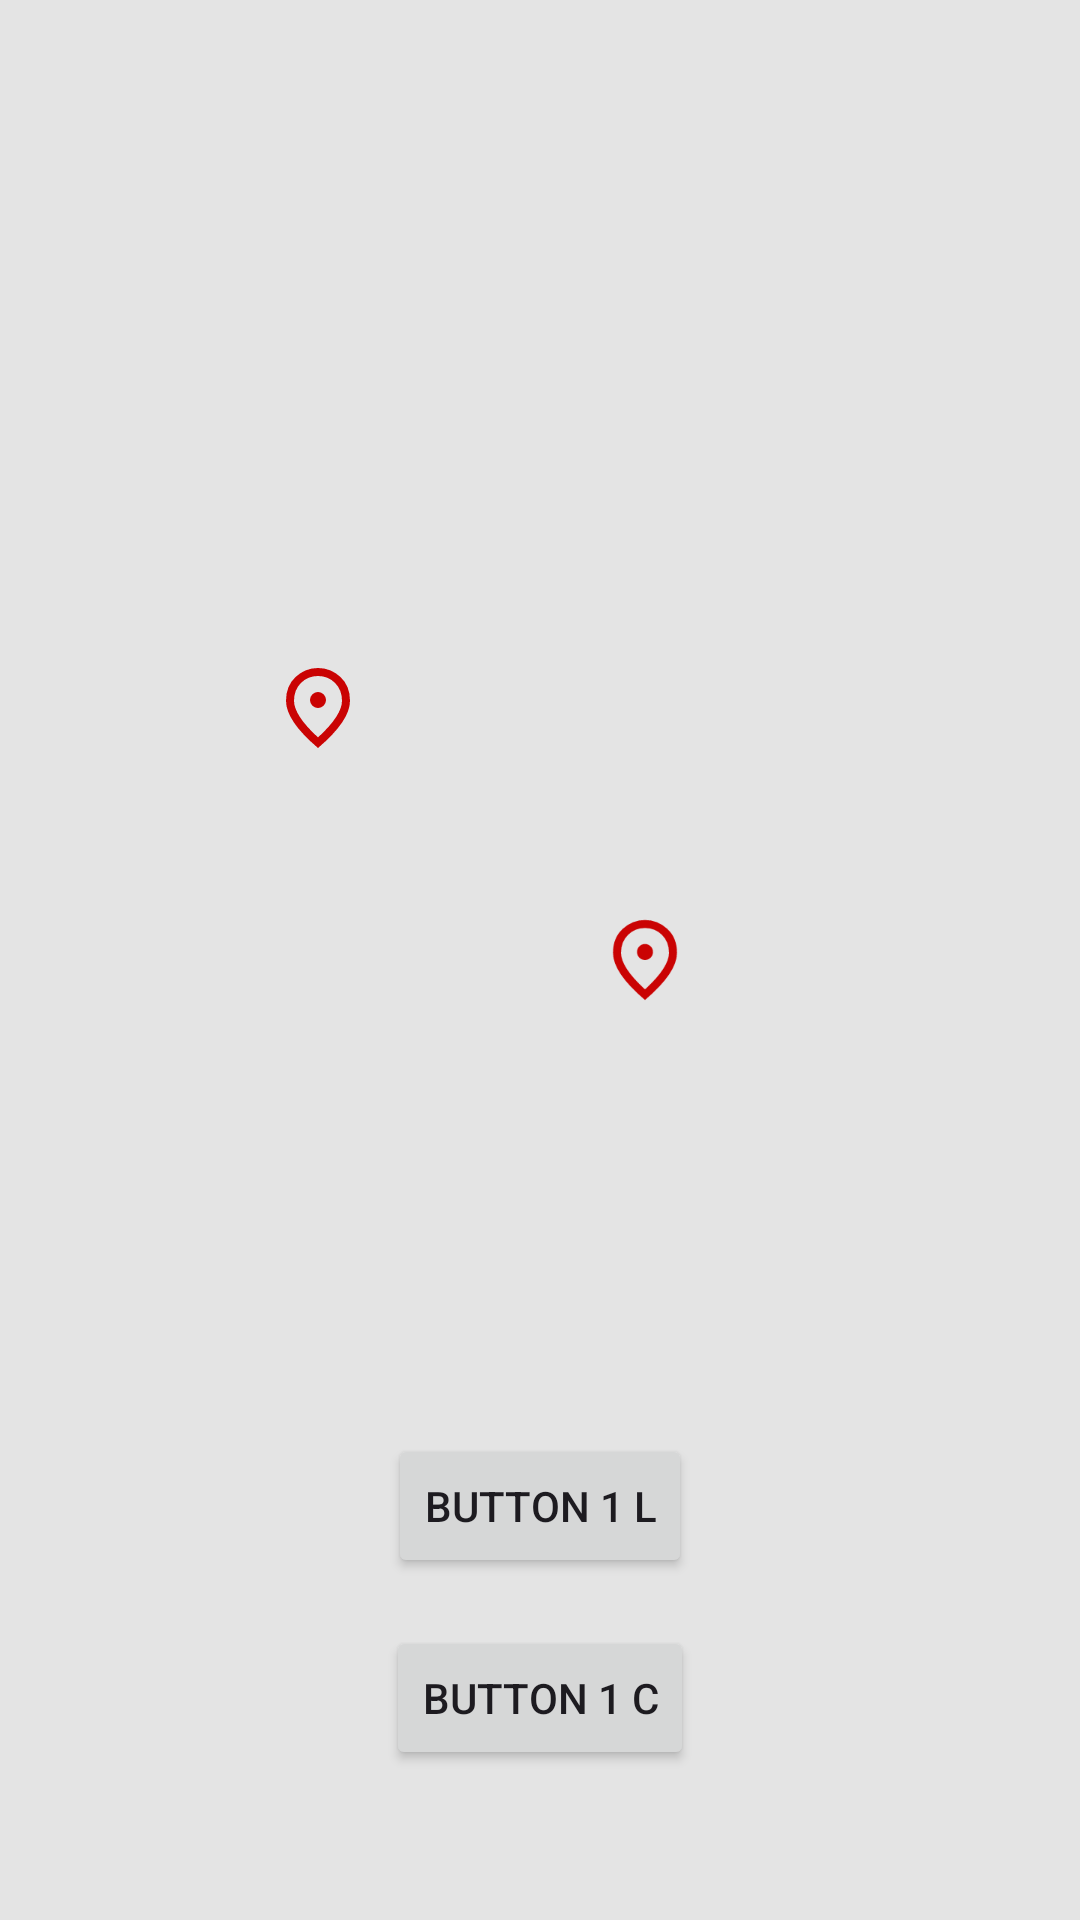

Icon bounding boxes for this 1080x1920 phone screenshot, format (x1, y1, x2, y2):
location: (286, 668, 350, 748), (612, 919, 677, 1000)
